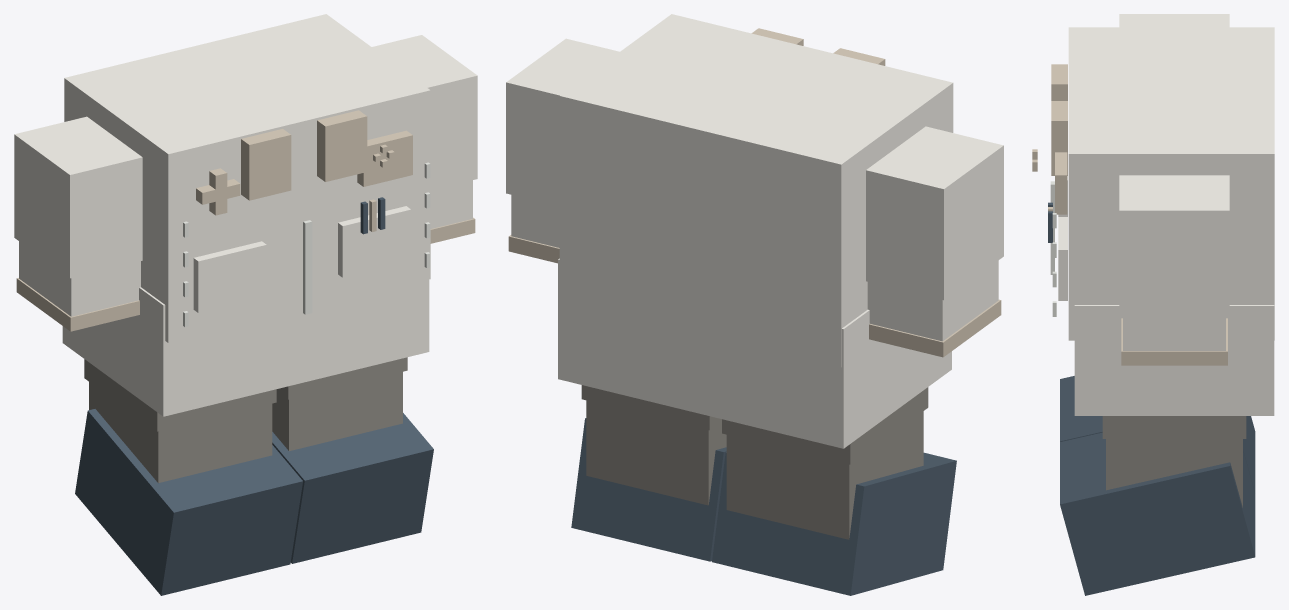
The model's file is pharmacy-sand.glb.
3 renders of one model, left to right at view 1: azimuth 30°, elevation 25°; view 2: azimuth 150°, elevation 25°; view 3: azimuth 270°, elevation 25°, orthographic. The views are drawn at different scales.
Visible parts, largest first — view 1: jacket, coat-tails, shoe-Right, upper-sleeve-Right, shoe-Left, lower-trouser-Right, upper-sleeve-Left, lower-trouser-Left, lower-sleeve-Right, pocket--1, pocket-1, lapel-1 (+10 smaller); view 2: jacket, coat-tails, upper-sleeve-Right, shoe-Right, lower-trouser-Right, lower-trouser-Left, upper-sleeve-Left, shoe-Left, lower-sleeve-Right, trouser-Right, cuff-Right, lower-sleeve-Left (+2 smaller); view 3: jacket, shoe-Left, coat-tails, upper-sleeve-Left, lower-trouser-Left, lower-sleeve-Left, trouser-Left, shoe-Right, cuff-Left, upper-sleeve-Right, lapel-1, pocket-1 (+2 smaller).
Part boxes in pixels (left/top/right/bottom): jacket: left=64, top=14, right=430, bottom=342; coat-tails: left=62, top=279, right=429, bottom=416; shoe-Right: left=75, top=409, right=302, bottom=595; upper-sleeve-Right: left=14, top=116, right=142, bottom=278; shoe-Left: left=272, top=413, right=433, bottom=563; lower-trouser-Right: left=89, top=382, right=272, bottom=482; upper-sleeve-Left: left=372, top=35, right=477, bottom=190; lower-trouser-Left: left=272, top=372, right=402, bottom=451; lower-sleeve-Right: left=19, top=241, right=140, bottom=316; pocket--1: left=193, top=241, right=266, bottom=312; pocket-1: left=338, top=206, right=411, bottom=277; lapel-1: left=317, top=110, right=367, bottom=181; jacket: left=559, top=14, right=953, bottom=367; coat-tails: left=558, top=258, right=951, bottom=448; upper-sleeve-Right: left=866, top=126, right=1003, bottom=300; shoe-Right: left=712, top=452, right=956, bottom=595; lower-trouser-Right: left=726, top=411, right=923, bottom=539; lower-trouser-Left: left=586, top=400, right=726, bottom=505; upper-sleeve-Left: left=506, top=38, right=619, bottom=206; shoe-Left: left=571, top=418, right=726, bottom=561; lower-sleeve-Right: left=867, top=260, right=998, bottom=341; trouser-Right: left=722, top=387, right=928, bottom=464; cuff-Right: left=869, top=299, right=1001, bottom=357; lower-sleeve-Left: left=511, top=195, right=559, bottom=247; jacket: left=1068, top=27, right=1274, bottom=340; shoe-Left: left=1060, top=432, right=1255, bottom=595; coat-tails: left=1074, top=305, right=1274, bottom=415; upper-sleeve-Left: left=1119, top=175, right=1229, bottom=312; lower-trouser-Left: left=1106, top=439, right=1242, bottom=507; lower-sleeve-Left: left=1123, top=312, right=1225, bottom=350; trouser-Left: left=1102, top=416, right=1246, bottom=438; shoe-Right: left=1060, top=376, right=1255, bottom=493; cuff-Left: left=1121, top=318, right=1227, bottom=365; upper-sleeve-Right: left=1119, top=14, right=1229, bottom=27; lapel-1: left=1051, top=101, right=1067, bottom=175; pocket-1: left=1058, top=217, right=1067, bottom=300.
Size of the model in its own units: 1.07 by 1.13 by 0.559.
